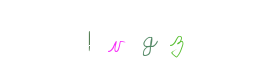1: (75, 0, 155, 80)
G: (110, 0, 190, 80)
V: (94, 0, 174, 80)
Z: (122, 0, 202, 80)
